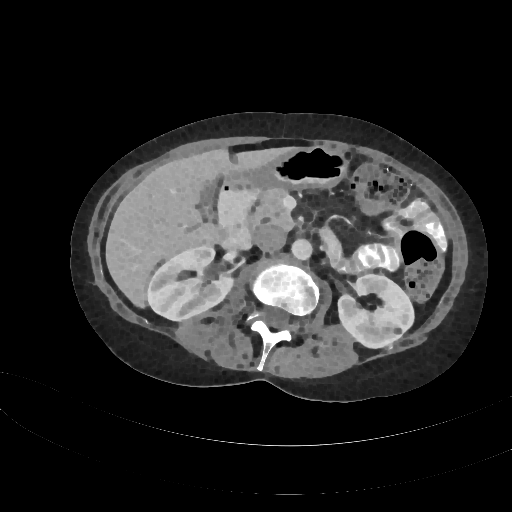Lesion: (390, 324, 407, 338)
